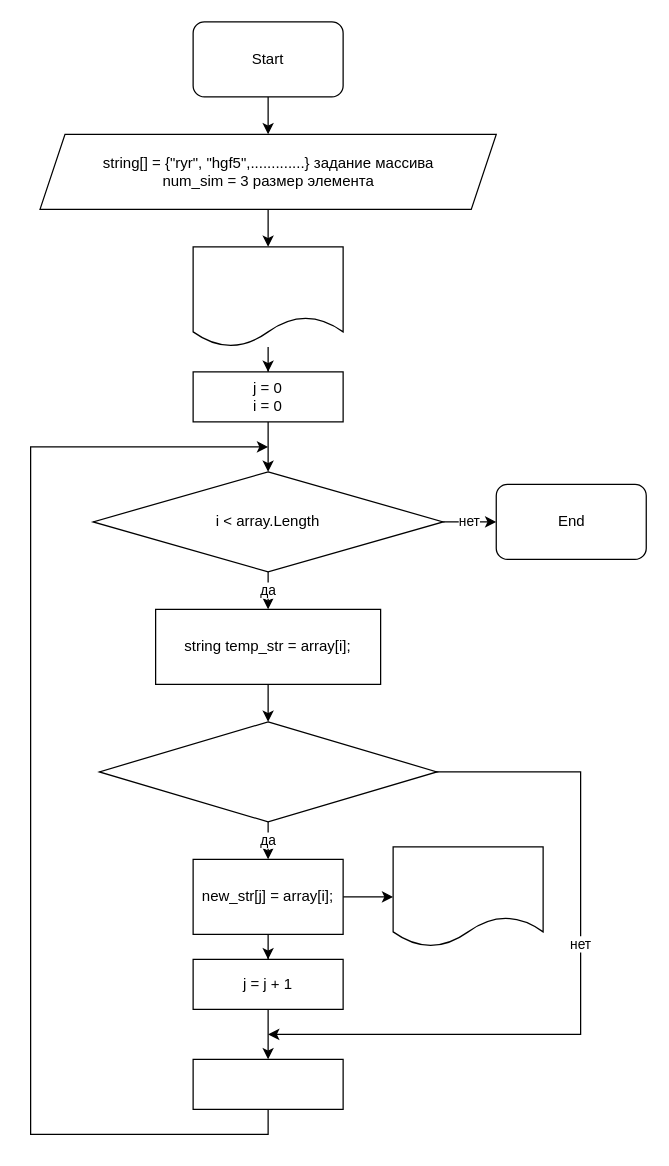
Some shapes in this 669 by 1166 pixel diagram are drawn without their labels. The box of each missing label's shape, as (x1, y1, x2, y2) in pixels:
i = i + 1: (192, 1058, 343, 1109)
if (temp_str.Length <= n_simbol): (98, 721, 437, 822)
Print new_str (вывод нового массива): (392, 846, 543, 947)
Print string (исходный массив): (192, 246, 343, 347)
